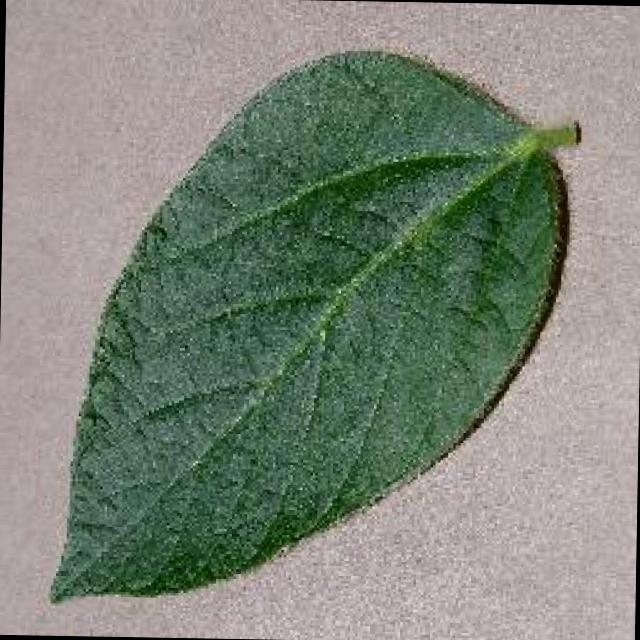healthy: (53, 53, 573, 600)
